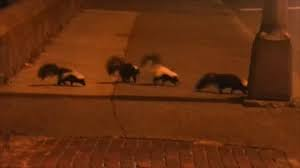skunk: (193, 71, 249, 97), (141, 52, 181, 87), (35, 63, 88, 88), (104, 55, 141, 84)
